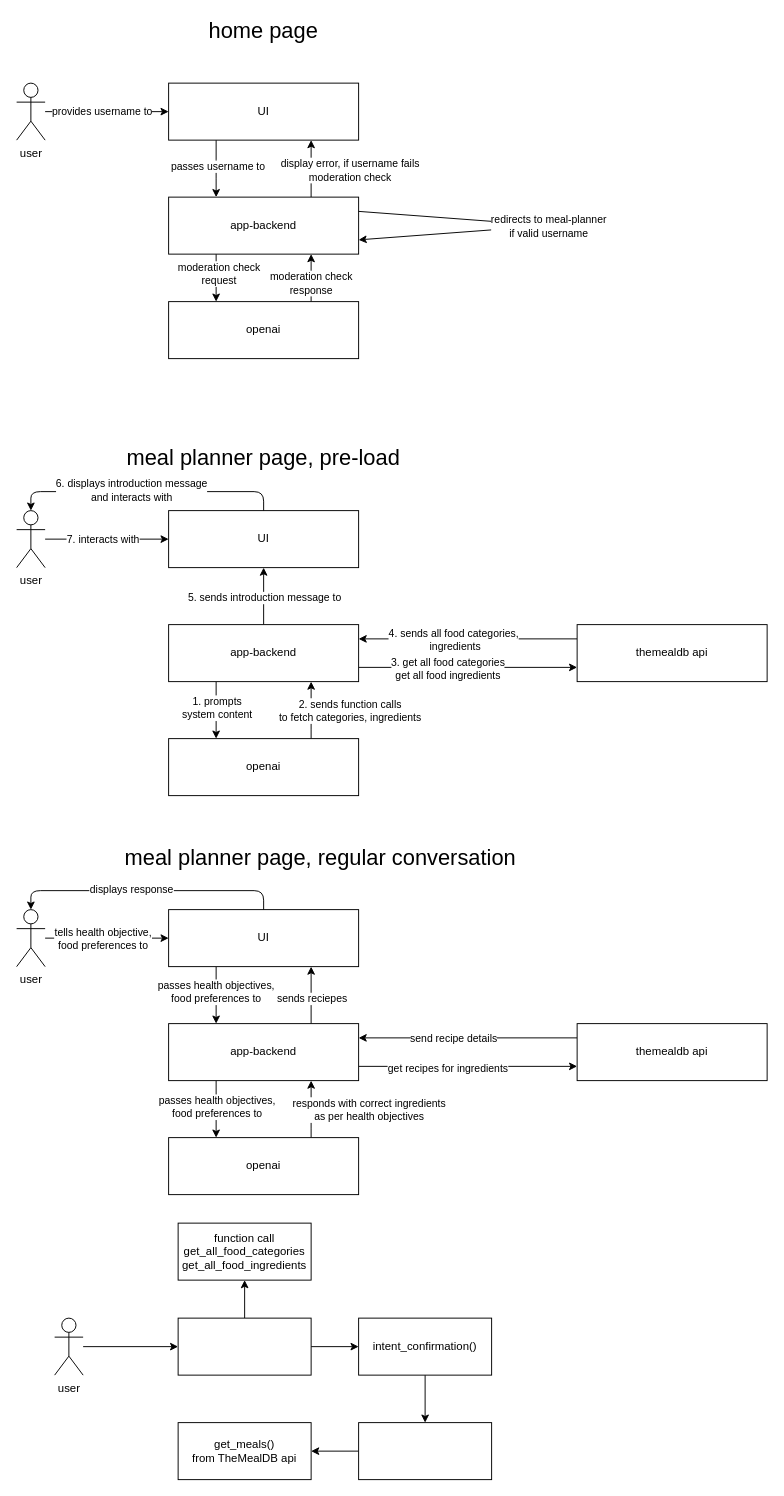
This 784x1496 diagram has some shape labels left out. The shapes that lost their labels are listed below. From the top down, each one's centre as x and y in pixels, then its label:
At (244,1346): "initialize_conversation()".
At (425,1451): "extract_python_dictionary()".
